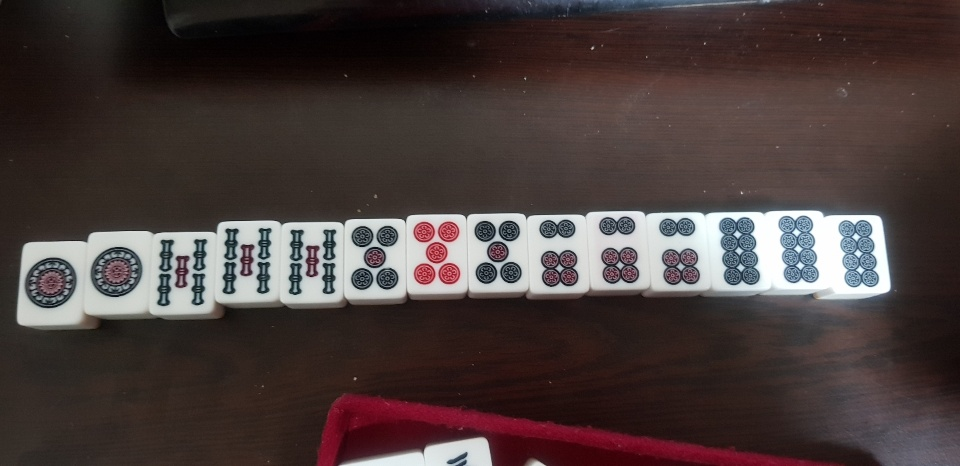pin_1: (13, 237, 84, 333), (84, 231, 150, 331)
pin_5: (339, 213, 411, 309), (474, 212, 531, 303)
pin_6: (593, 212, 656, 301), (531, 210, 590, 301), (650, 208, 711, 294)
pin_8: (824, 210, 899, 310), (704, 212, 777, 301), (766, 210, 832, 304)
pin_aka_5: (402, 212, 472, 304)
sou_5: (150, 231, 215, 319), (213, 224, 277, 310), (281, 222, 340, 313)
